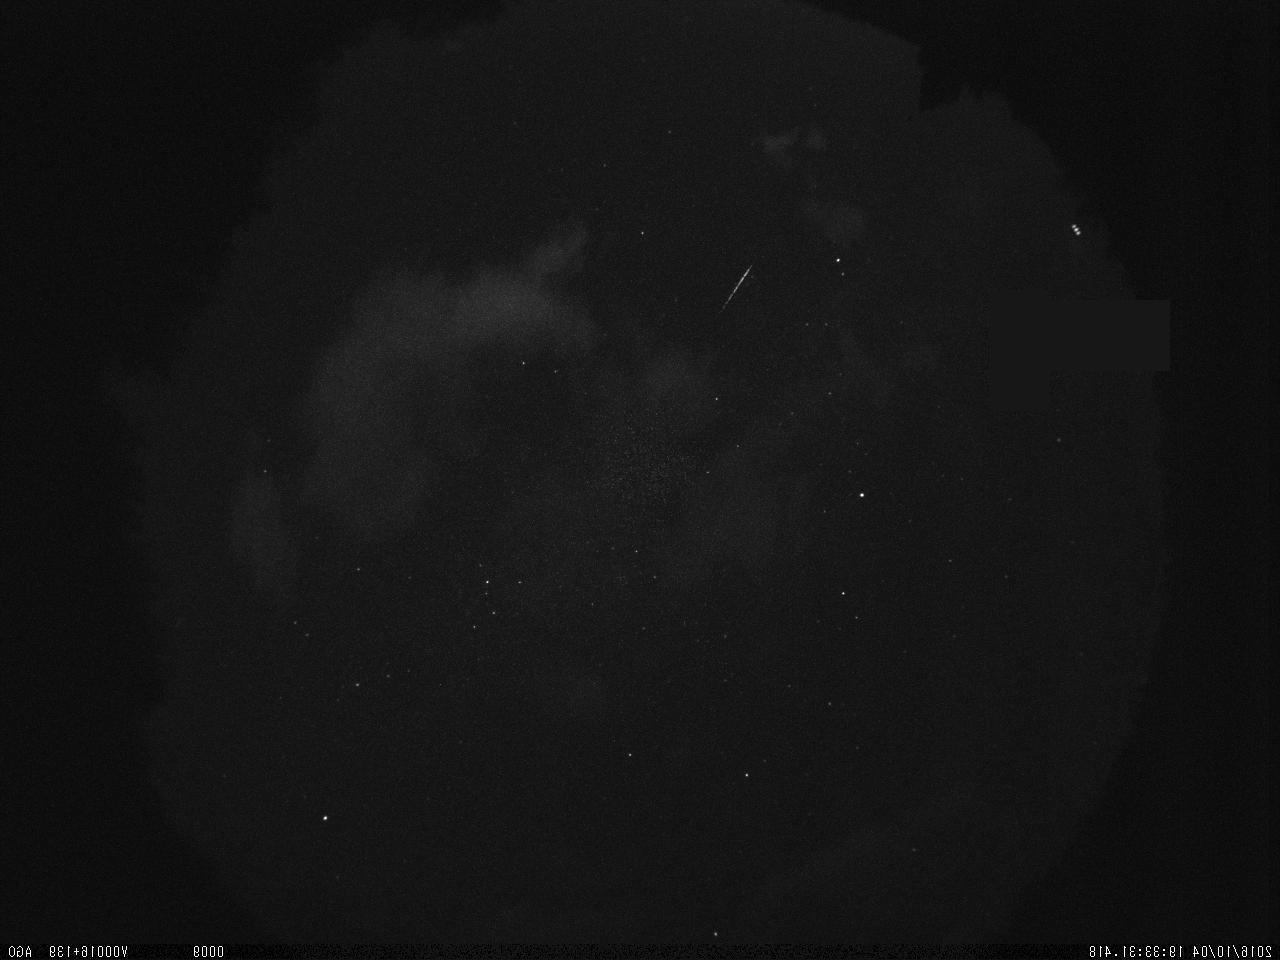meteor: (707, 261, 767, 328)
